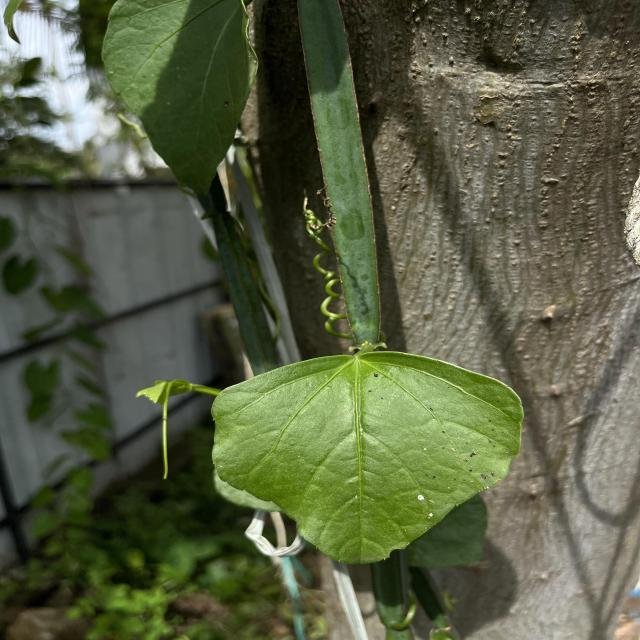Cissus quadrangularis: (207, 348, 528, 566)
